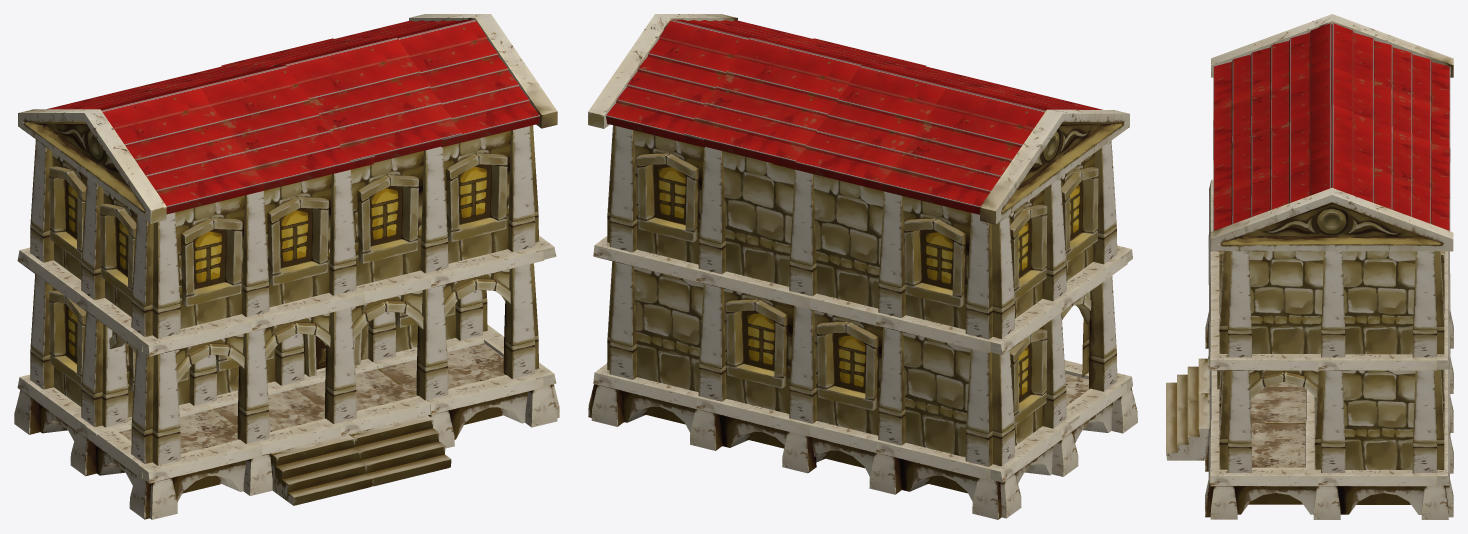
The model's file is Rome_Village_Buildings_04.FBX.
The picture shows the model from 3 angles, left to right: view 1: azimuth 30°, elevation 25°; view 2: azimuth 150°, elevation 25°; view 3: azimuth 270°, elevation 25°; orthographic projection. The views are drawn at different scales.
Parts seen in each view (by area): view 1: Rome_Village_Buildings_04; view 2: Rome_Village_Buildings_04; view 3: Rome_Village_Buildings_04.
Boxes of the visible parts, x1,y1,x2,y2 form: Rome_Village_Buildings_04: (14, 14, 559, 519); Rome_Village_Buildings_04: (588, 14, 1137, 519); Rome_Village_Buildings_04: (1166, 14, 1453, 519).
Bounding box in the file's own units: 1030 × 841 × 677.
